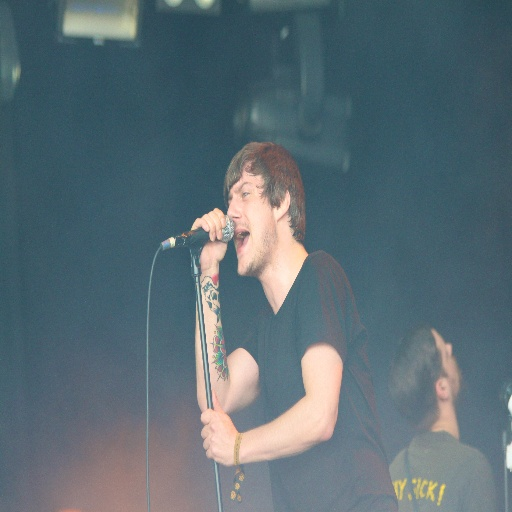hand: (195, 409, 244, 464), (190, 208, 228, 271)
